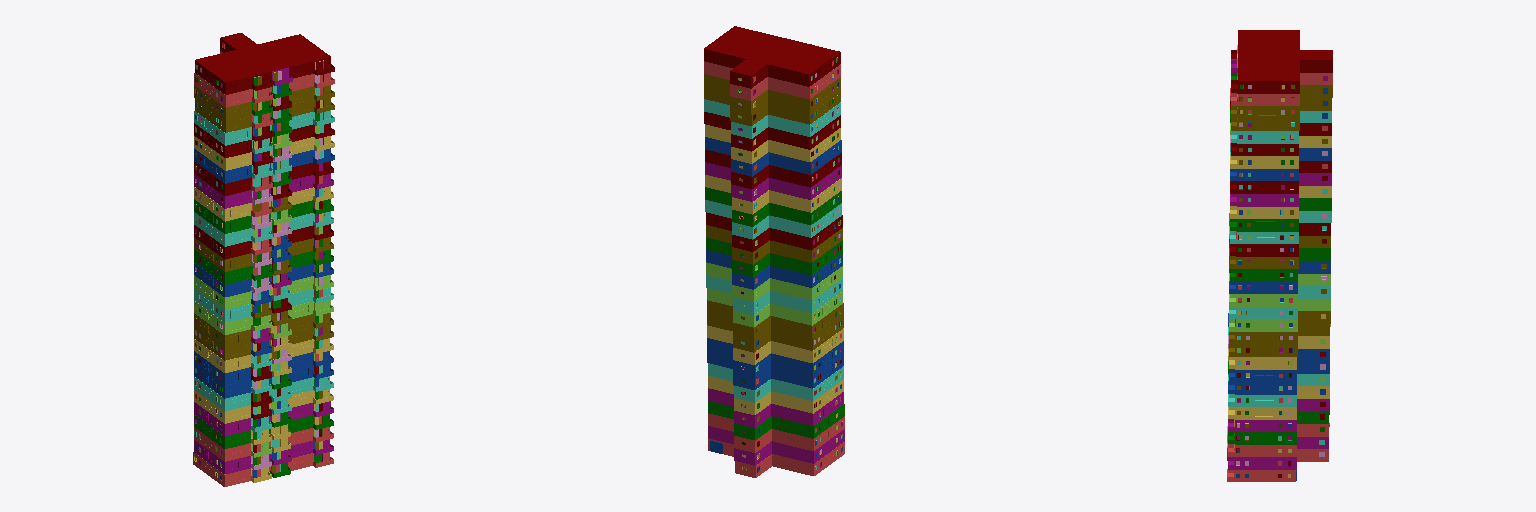
3 views of the same model, side by side, from view 1: azimuth 30°, elevation 25°; view 2: azimuth 150°, elevation 25°; view 3: azimuth 270°, elevation 25° (orthographic).
Visible parts, largest first — view 1: Component_2_005, Component_2_029, Component_2_021, Component_2_010, Component_2_007, Component_2_031, Component_2_026, Component_2_023, Component_2_030, Component_2_011, Component_2_027, Component_2_022 (+20 smaller); view 2: Component_2_005, Component_2_028, Component_2_020, Component_2_010, Component_2_024, Component_2_015, Component_2_009, Component_2_007, Component_2_001, Component_2_026, Component_2_011, Component_2_032 (+20 smaller); view 3: Component_2_005, Component_2_027, Component_2_025, Component_2_026, Component_2_006, Component_2_019, Component_2_001, Component_2_016, Component_2_004, Component_2_028, Component_2_031, Component_2_030 (+20 smaller).
Boxes of the visible parts, x1=… form: Component_2_005: x1=195, y1=33, x2=334, y2=94; Component_2_029: x1=194, y1=186, x2=333, y2=221; Component_2_021: x1=194, y1=110, x2=334, y2=145; Component_2_010: x1=194, y1=51, x2=334, y2=107; Component_2_007: x1=194, y1=148, x2=334, y2=183; Component_2_031: x1=194, y1=249, x2=333, y2=284; Component_2_026: x1=194, y1=224, x2=333, y2=259; Component_2_023: x1=194, y1=211, x2=333, y2=246; Component_2_030: x1=194, y1=300, x2=333, y2=334; Component_2_011: x1=194, y1=262, x2=333, y2=296; Component_2_027: x1=194, y1=174, x2=333, y2=208; Component_2_022: x1=194, y1=287, x2=333, y2=322; Component_2_005: x1=704, y1=26, x2=840, y2=88; Component_2_028: x1=705, y1=149, x2=841, y2=188; Component_2_020: x1=708, y1=401, x2=844, y2=440; Component_2_010: x1=704, y1=61, x2=840, y2=100; Component_2_024: x1=706, y1=262, x2=842, y2=302; Component_2_015: x1=707, y1=300, x2=843, y2=339; Component_2_009: x1=708, y1=413, x2=844, y2=452; Component_2_007: x1=705, y1=137, x2=841, y2=176; Component_2_001: x1=704, y1=74, x2=840, y2=113; Component_2_026: x1=706, y1=212, x2=842, y2=251; Component_2_011: x1=706, y1=250, x2=842, y2=289; Component_2_032: x1=706, y1=225, x2=842, y2=264; Component_2_005: x1=1231, y1=30, x2=1332, y2=93; Component_2_027: x1=1230, y1=173, x2=1331, y2=206; Component_2_025: x1=1230, y1=198, x2=1331, y2=231; Component_2_026: x1=1230, y1=223, x2=1330, y2=256; Component_2_006: x1=1228, y1=361, x2=1329, y2=394; Component_2_019: x1=1228, y1=386, x2=1329, y2=419; Component_2_001: x1=1231, y1=85, x2=1332, y2=118; Component_2_016: x1=1229, y1=336, x2=1329, y2=369; Component_2_004: x1=1230, y1=136, x2=1331, y2=168; Component_2_028: x1=1230, y1=161, x2=1331, y2=193; Component_2_031: x1=1230, y1=248, x2=1330, y2=281; Component_2_030: x1=1229, y1=299, x2=1330, y2=331.
Bounding box in the file's own units: 918 × 3238 × 770.